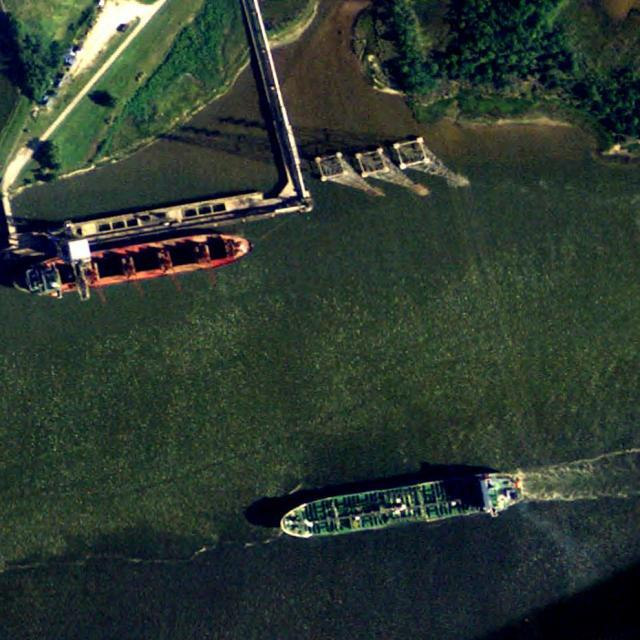Cargo: (22, 225, 255, 299)
Dock: (9, 180, 312, 263)
Oil Tanker: (277, 467, 529, 547)
